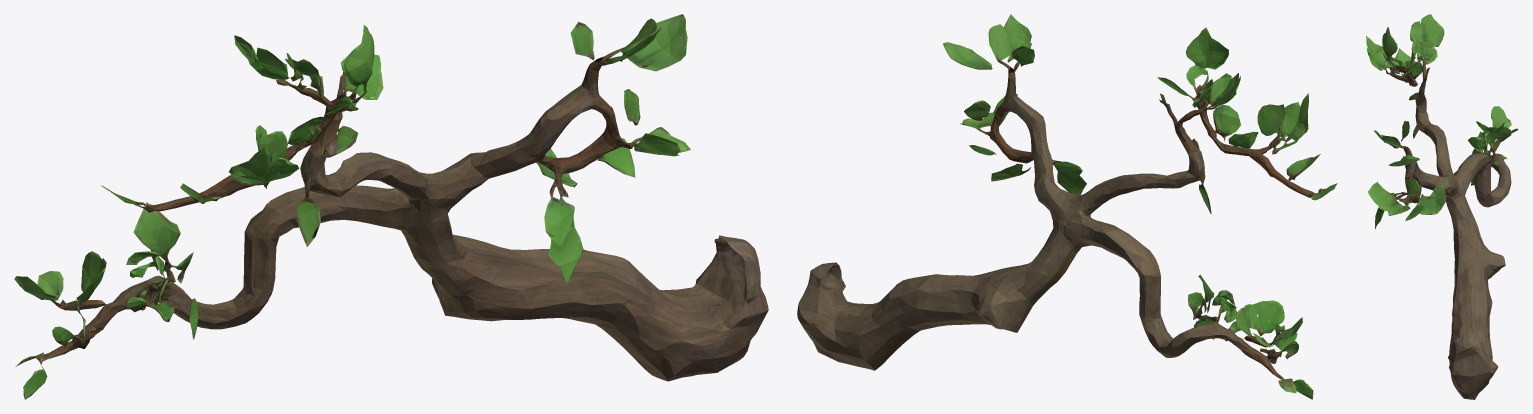
Rendered from buatkan_saya_ranting__0518141602_texture.fbx.
3 views of the same model, side by side, from view 1: azimuth 30°, elevation 25°; view 2: azimuth 150°, elevation 25°; view 3: azimuth 270°, elevation 25° (orthographic). The views are drawn at different scales.
Parts seen in each view (by area): view 1: temp; view 2: temp; view 3: temp.
Boxes of the visible parts, x1=… form: temp: x1=14, y1=14, x2=768, y2=399; temp: x1=797, y1=14, x2=1337, y2=399; temp: x1=1366, y1=14, x2=1518, y2=399.
Size of the model in its own units: 200 by 135 by 71.18.
1 material, 1 textured.
